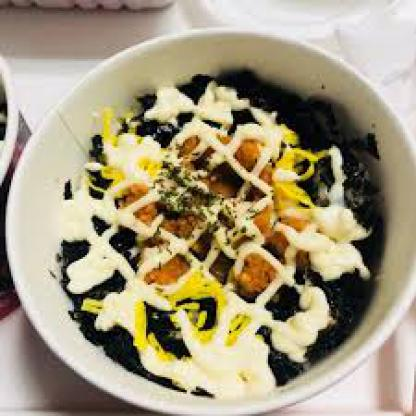cup rice: (56, 70, 386, 396)
